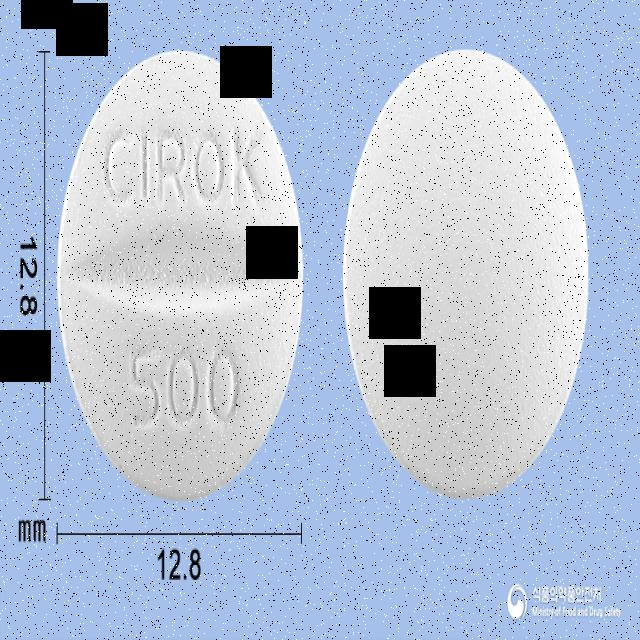Cirok -500mg: (54, 43, 309, 509)
